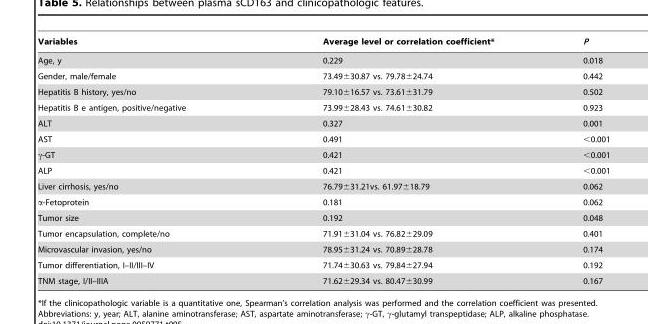table: (36, 36, 609, 285)
table column: (253, 36, 537, 285), (36, 36, 253, 285), (537, 36, 609, 285)
table column header: (36, 36, 609, 50)
table row: (36, 50, 609, 67), (36, 67, 609, 83), (36, 83, 609, 99), (36, 99, 609, 115), (36, 130, 609, 146), (36, 146, 609, 162), (36, 162, 609, 178), (36, 178, 609, 194), (36, 209, 609, 225), (36, 225, 609, 241), (36, 256, 609, 272), (36, 115, 609, 130), (36, 194, 609, 209), (36, 241, 609, 256), (36, 36, 609, 50), (36, 272, 609, 285)
